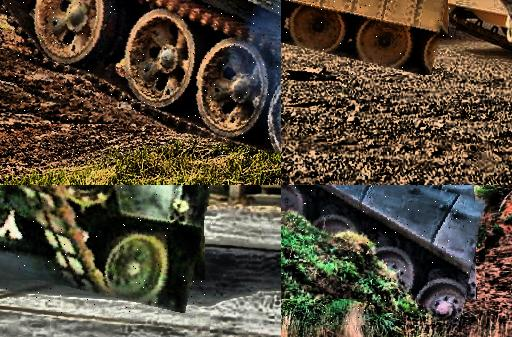tanks: (1, 1, 282, 156), (282, 186, 485, 326), (1, 186, 212, 314), (282, 1, 445, 76)
